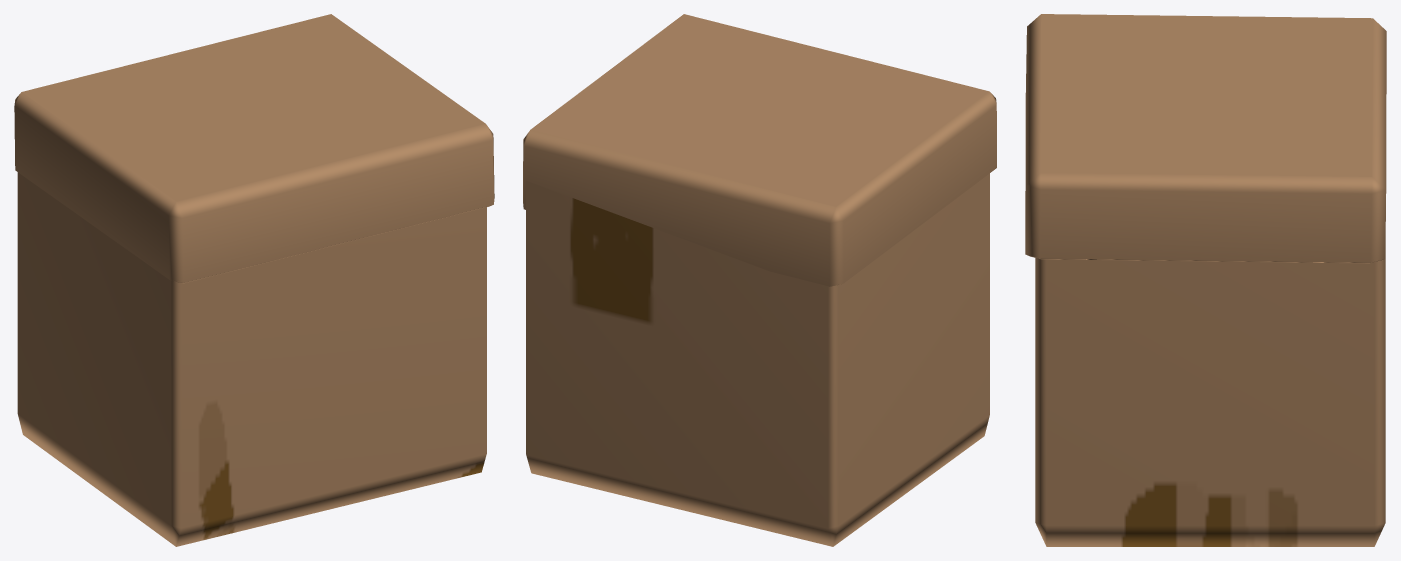
Rendered from CLOSED_BOX.fbx.
3 views of the same model, side by side, from view 1: azimuth 30°, elevation 25°; view 2: azimuth 150°, elevation 25°; view 3: azimuth 270°, elevation 25° (orthographic). The views are drawn at different scales.
Parts seen in each view (by area): view 1: BOX, LID; view 2: BOX, LID; view 3: BOX, LID.
Boxes of the visible parts, box(x1,y1,x2,y2) form: BOX: box(17, 172, 486, 546); LID: box(14, 14, 494, 283); BOX: box(526, 173, 989, 546); LID: box(523, 14, 996, 286); BOX: box(1035, 249, 1385, 546); LID: box(1025, 14, 1386, 263).
Bounding box in the file's own units: 20.88 × 21.47 × 18.75.
